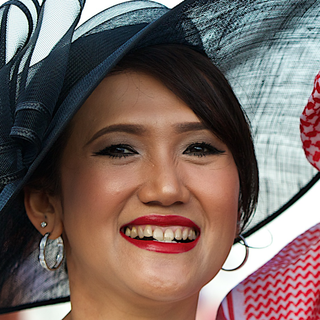eye: (179, 134, 230, 163), (91, 139, 145, 162)
